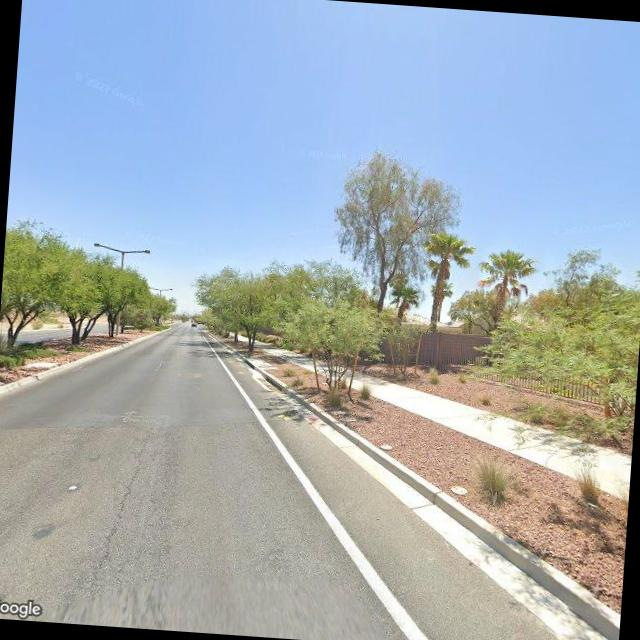pothole: (88, 429, 150, 586)
